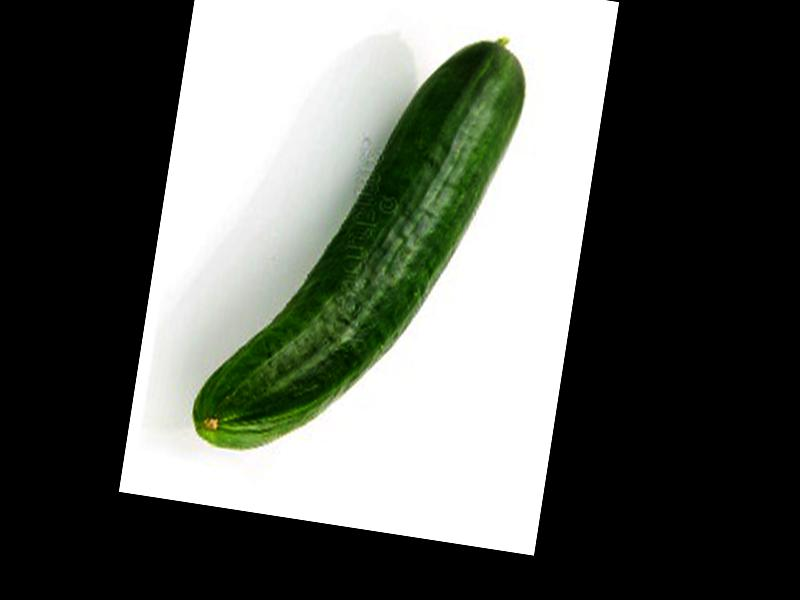Cucumber: (187, 5, 531, 484)
